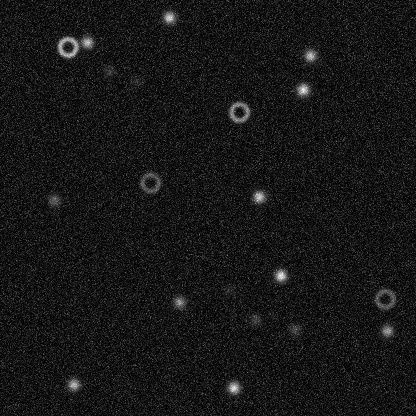Ring: (227, 99, 251, 123), (138, 170, 162, 194), (372, 286, 396, 310), (55, 34, 79, 58)
Spot: (78, 34, 94, 50), (161, 9, 177, 25), (221, 281, 237, 297), (171, 293, 187, 309), (302, 47, 318, 63), (272, 267, 288, 283), (65, 376, 81, 392), (286, 321, 302, 337), (250, 188, 266, 204), (247, 311, 263, 327), (379, 322, 395, 338), (225, 379, 241, 395), (100, 62, 116, 78), (46, 191, 62, 207), (294, 81, 310, 97), (127, 72, 143, 88)
